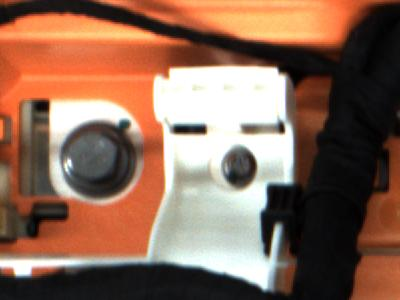nut_b: (57, 121, 135, 194)
